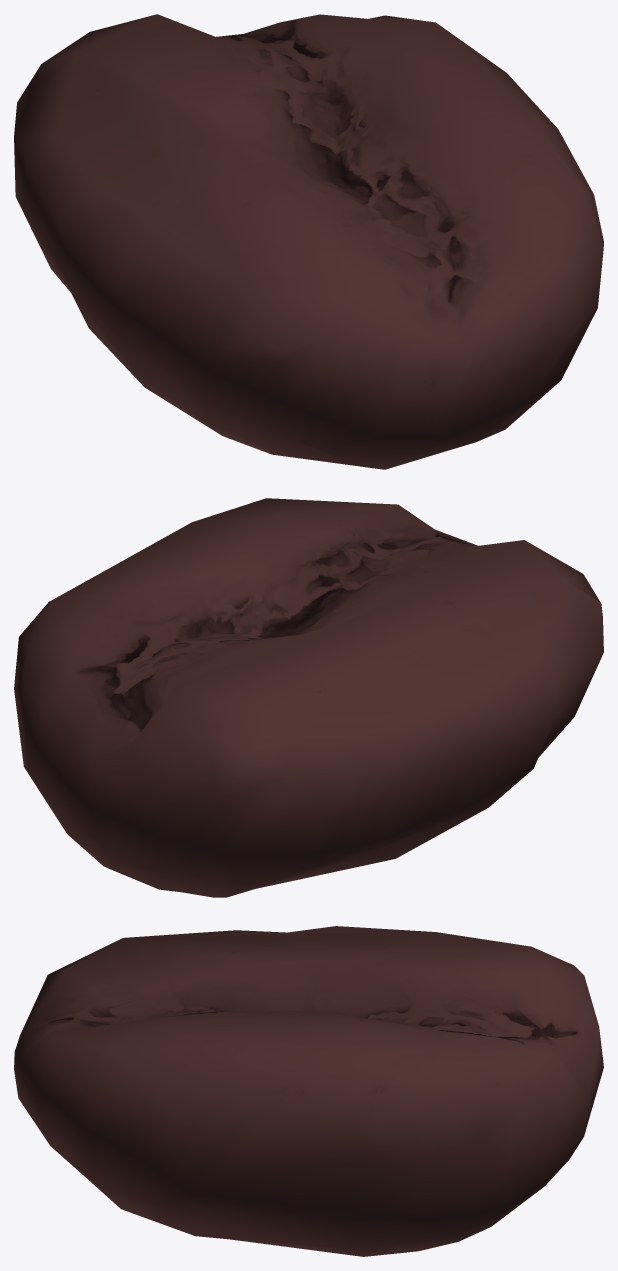
3 renders of one model, top to bottom at view 1: azimuth 30°, elevation 25°; view 2: azimuth 150°, elevation 25°; view 3: azimuth 270°, elevation 25°, orthographic. The views are drawn at different scales.
Visible parts, largest first — view 1: been.low; view 2: been.low; view 3: been.low.
Part boxes in pixels (x1,y1,x2,y2): been.low: (14,14,603,469); been.low: (14,498,603,897); been.low: (14,926,603,1256).
Size of the model in its own units: 3.03 by 1.85 by 3.97.
1 material, 1 textured.
